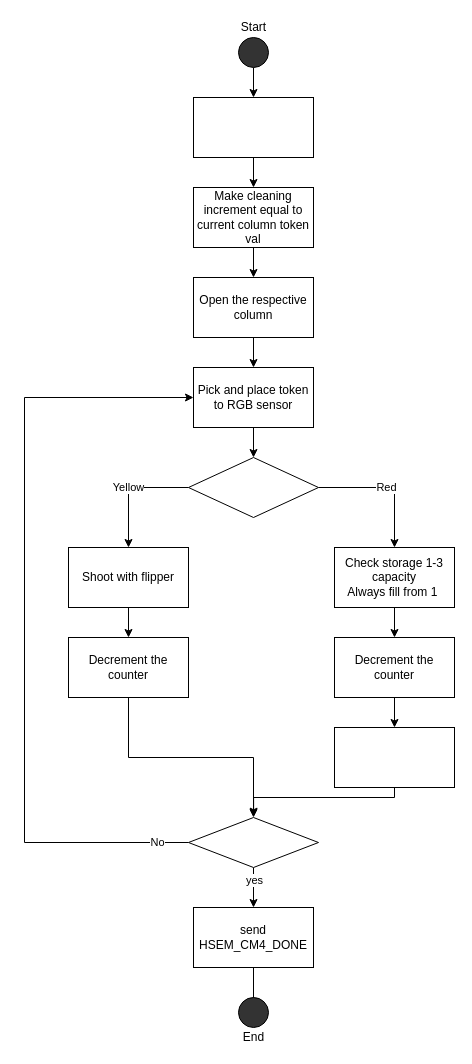
Some shapes in this 472 by 1064 pixel diagram are drawn without their labels. Each missing label, with the box of its shape:
Check colour: (188, 456, 318, 518)
Check memory for tokens in current column: (192, 96, 314, 158)
Is cleaning counter == 0: (188, 816, 318, 868)
Pick and place token to free storage: (334, 726, 454, 788)
